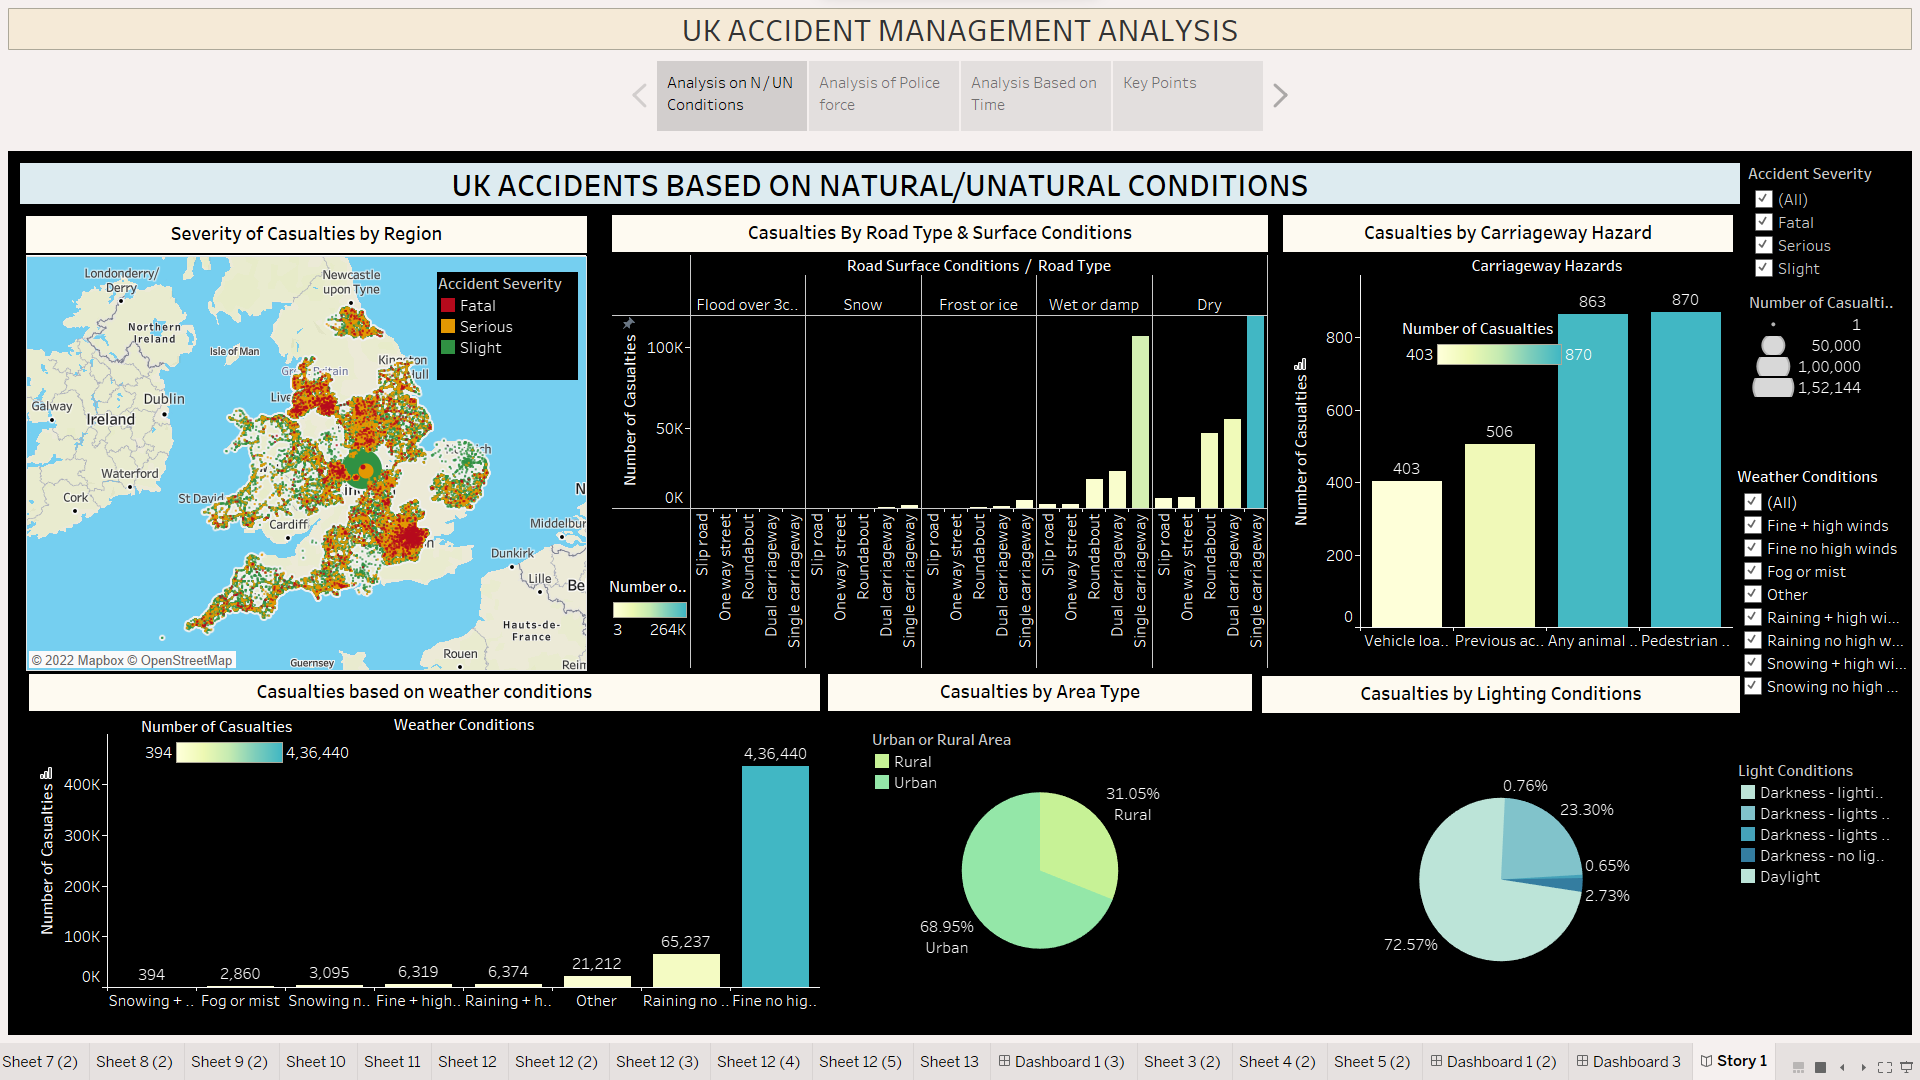

The dashboard page shown, as its layout file describes it:
{"tool":"tableau","page":{"name":"Dashboard 1 (3)","canvas":[1900,1000],"ordinal":2},"visuals":[{"type":"title","box":[8,8,1884,58]},{"type":"worksheet","title":"Sheet 7 (2)","mark":"Automatic","rows":["Number_of_Casualties"],"cols":["Police_Force"],"box":[774,66,743,483]},{"type":"worksheet","title":"Sheet 11","mark":"Pie","rows":["Calculation_846958239741841410","Calculation_846958239741841410"],"box":[1521,66,206,252]},{"type":"legend","title":"Sheet 11","param":"[federated.1hccrco1qncsnh13itg3j1ld0nra (copy 2)].[none:Urban_or_Rural_Area:nk]","box":[1735,71,140,121]},{"type":"legend","title":"Sheet 7 (2)","param":"[federated.1hccrco1qncsnh13itg3j1ld0nra (copy 2)].[none:Day_of_Week:nk]","box":[1381,112,140,169]},{"type":"filter","title":"Sheet 5 (3)","param":"[federated.1hccrco1qncsnh13itg3j1ld0nra (copy 2)].[yr:Date:ok]","box":[581,201,161,59]},{"type":"filter","title":"Sheet 13","param":"[federated.1hccrco1qncsnh13itg3j1ld0nra (copy 2)].[none:Police_Force:nk]","box":[572,279,168,61]},{"type":"worksheet","title":"Sheet 12","mark":"Pie","rows":["Calculation_846958239741841410","Calculation_846958239741841410"],"cols":["Speed_limit"],"box":[1517,325,209,233]},{"type":"legend","title":"Sheet 5 (3)","param":"[federated.1hccrco1qncsnh13itg3j1ld0nra (copy 2)].[yr:Date:ok]","box":[27,491,116,59]},{"type":"worksheet","title":"Sheet 12 (2)","mark":"Pie","rows":["Calculation_846958239741841410","Calculation_846958239741841410"],"cols":["Speed_limit"],"box":[1518,560,207,195]},{"type":"worksheet","title":"Sheet 10","mark":"Automatic","box":[9,561,793,426]},{"type":"worksheet","title":"Sheet 8 (2)","mark":"Automatic","rows":["Calculation_846958239744446467","Calculation_846958239745134596","Calculation_846958239745208325"],"cols":["Police_Force"],"box":[806,561,709,422]},{"type":"filter","title":"Sheet 8 (2)","param":"[federated.1hccrco1qncsnh13itg3j1ld0nra (copy 2)].[none:Accident_Severity:nk]","box":[1336,635,157,48]},{"type":"worksheet","title":"Sheet 13","mark":"Automatic","cols":["Police_Force"],"box":[1803,643,106,146]},{"type":"worksheet","title":"Sheet 12 (3)","mark":"Pie","rows":["Calculation_846958239741841410","Calculation_846958239741841410"],"cols":["Speed_limit"],"box":[1516,773,208,211]}]}

Visuals, with their boxes on the page's 1900x1000 design canvas (x1, y1, x2, y2). These are canvas units, not pixel positions in the 1920x1080 screenshot, which may show the page scaled, cropped or inside an application window:
title: box=[8, 8, 1892, 66]
"Sheet 7 (2)" worksheet: box=[774, 66, 1517, 549]
"Sheet 11" worksheet (Pie marks): box=[1521, 66, 1727, 318]
"Sheet 11" legend: box=[1735, 71, 1875, 192]
"Sheet 7 (2)" legend: box=[1381, 112, 1521, 281]
"Sheet 5 (3)" filter: box=[581, 201, 742, 260]
"Sheet 13" filter: box=[572, 279, 740, 340]
"Sheet 12" worksheet (Pie marks): box=[1517, 325, 1726, 558]
"Sheet 5 (3)" legend: box=[27, 491, 143, 550]
"Sheet 12 (2)" worksheet (Pie marks): box=[1518, 560, 1725, 755]
"Sheet 10" worksheet: box=[9, 561, 802, 987]
"Sheet 8 (2)" worksheet: box=[806, 561, 1515, 983]
"Sheet 8 (2)" filter: box=[1336, 635, 1493, 683]
"Sheet 13" worksheet: box=[1803, 643, 1909, 789]
"Sheet 12 (3)" worksheet (Pie marks): box=[1516, 773, 1724, 984]
